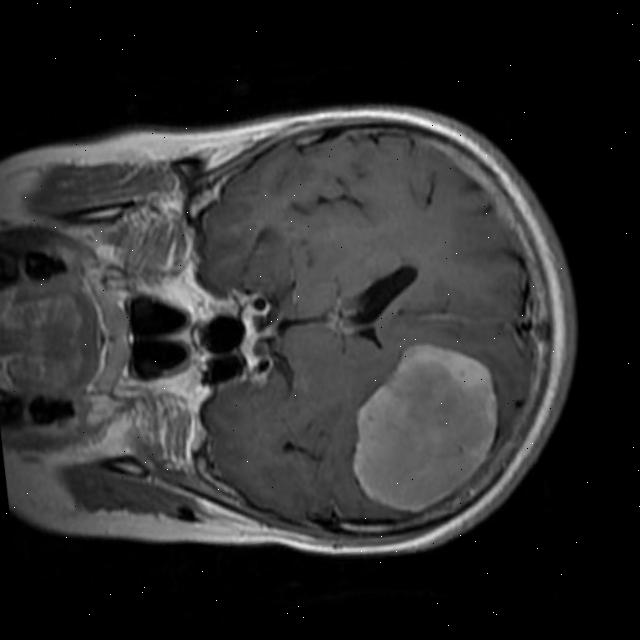Meningioma: (333, 331, 515, 527)
